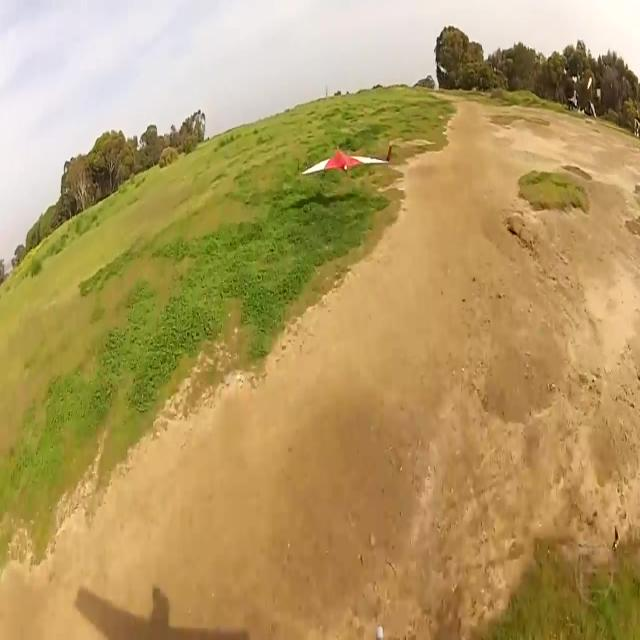iha: (329, 142, 361, 179)
